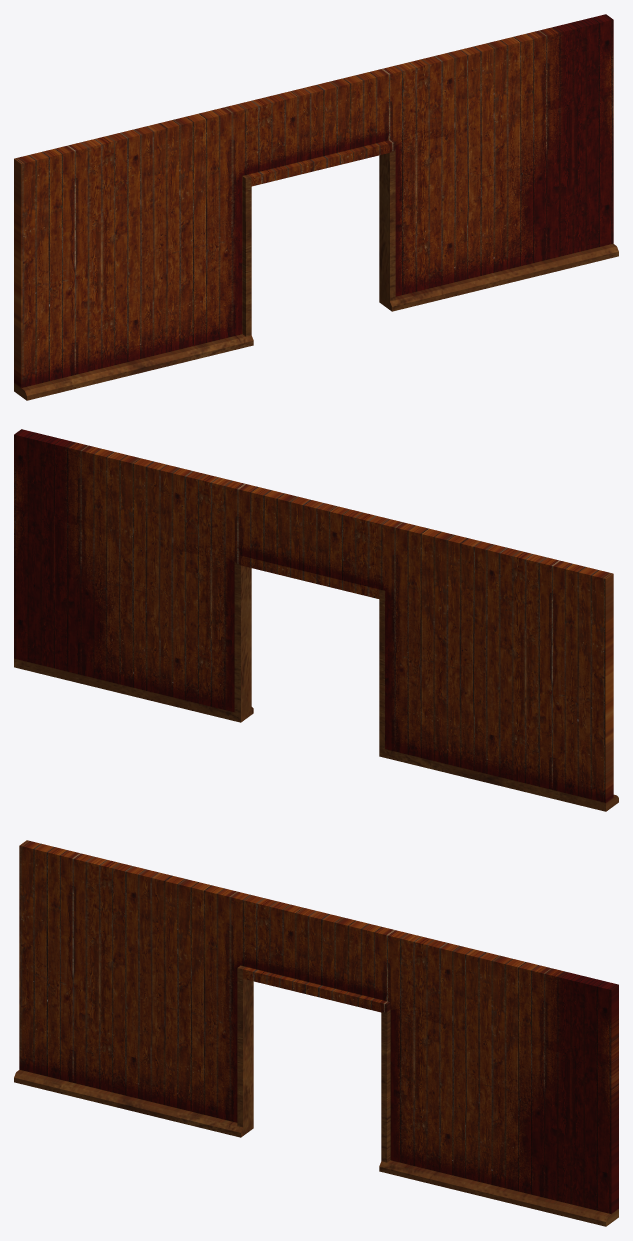
Rendered from ParedeOW.fbx.
3 renders of one model, top to bottom at view 1: azimuth 30°, elevation 25°; view 2: azimuth 150°, elevation 25°; view 3: azimuth 330°, elevation 25°, orthographic.
Visible parts, largest first — view 1: ParedeOW; view 2: ParedeOW; view 3: ParedeOW.
Boxes of the visible parts, x1,y1,x2,y2 form: ParedeOW: [14, 14, 618, 400]; ParedeOW: [14, 429, 618, 811]; ParedeOW: [14, 840, 618, 1226].
Bounding box in the file's own units: 785 × 295 × 29.57.
